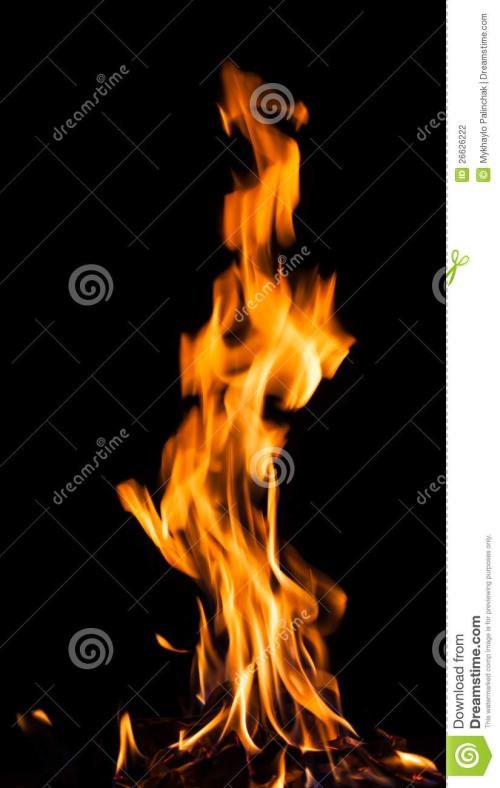fire: (178, 151, 281, 711)
